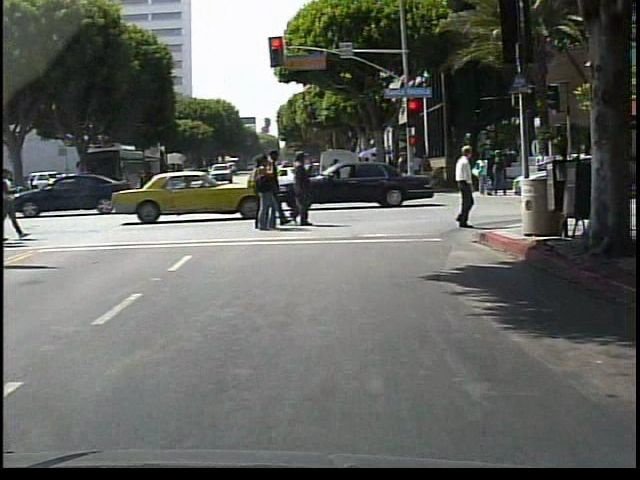person: (445, 142, 487, 234)
